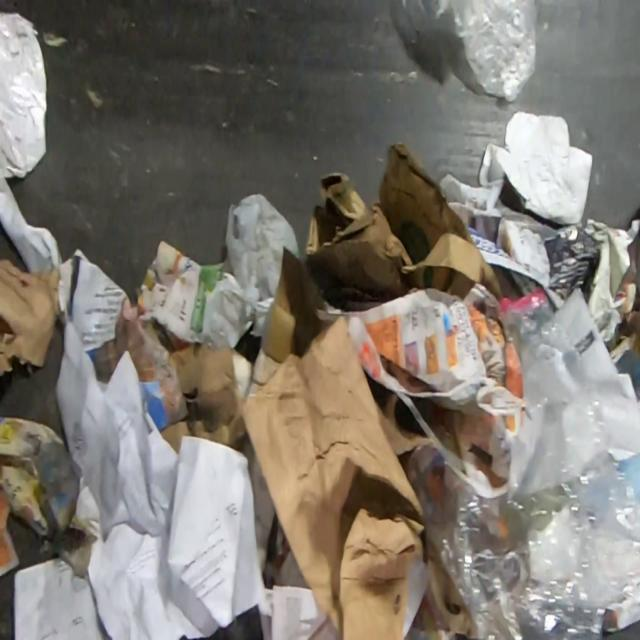cardboard: (243, 278, 438, 640), (281, 140, 514, 355), (438, 108, 594, 243), (0, 415, 104, 579), (159, 340, 254, 457), (0, 255, 63, 375), (543, 216, 606, 306)
soft_plastic: (399, 288, 640, 640), (434, 0, 538, 105), (223, 190, 300, 320), (0, 9, 49, 181)
